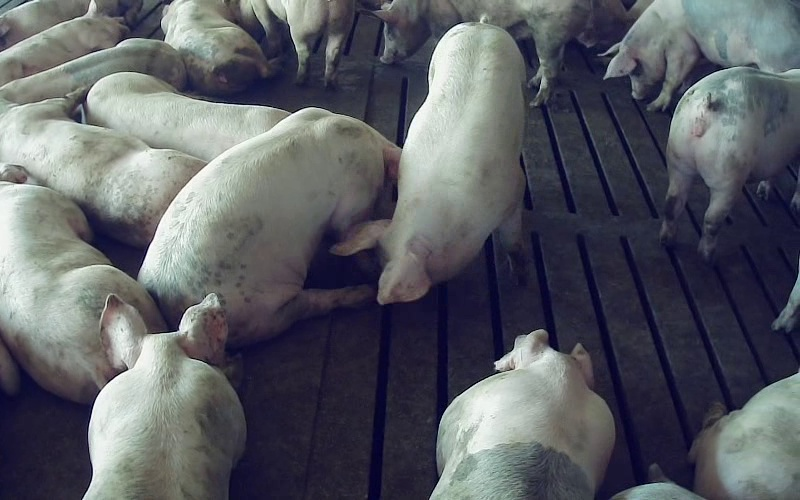pig: (139, 108, 399, 346), (332, 23, 524, 303), (84, 294, 245, 499), (431, 330, 614, 499), (374, 0, 590, 105), (605, 0, 799, 110), (86, 72, 289, 160), (0, 39, 185, 103), (0, 0, 128, 85), (161, 0, 273, 94)
